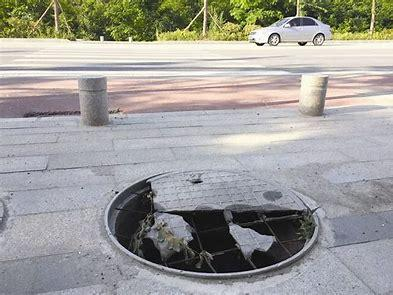wellcover: (113, 167, 329, 279)
